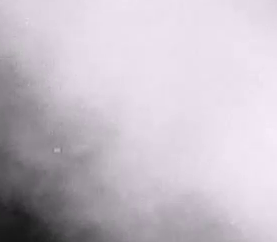Target: (55, 148, 61, 152)
